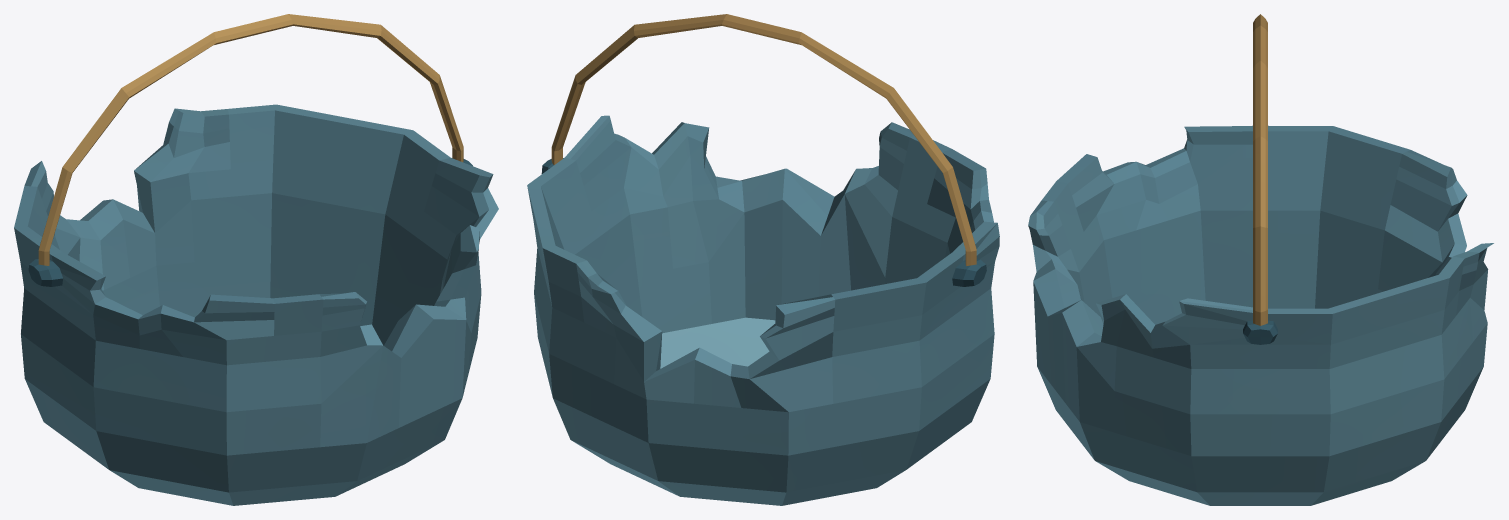
Rendered from cooking_pot_shotdamaged.glb.
The picture shows the model from 3 angles, left to right: view 1: azimuth 30°, elevation 25°; view 2: azimuth 150°, elevation 25°; view 3: azimuth 270°, elevation 25°; orthographic projection. The views are drawn at different scales.
Visible parts, largest first — view 1: cooking_pot_shotdamaged, cooking_pot_shotdamaged_handle; view 2: cooking_pot_shotdamaged, cooking_pot_shotdamaged_handle; view 3: cooking_pot_shotdamaged, cooking_pot_shotdamaged_handle.
Part boxes in pixels (box(x1,y1,x2,y2)): cooking_pot_shotdamaged: box(14, 104, 498, 505); cooking_pot_shotdamaged_handle: box(38, 14, 463, 265); cooking_pot_shotdamaged: box(527, 115, 999, 505); cooking_pot_shotdamaged_handle: box(551, 14, 976, 265); cooking_pot_shotdamaged: box(1028, 125, 1493, 505); cooking_pot_shotdamaged_handle: box(1253, 14, 1267, 325).
Size of the model in its own units: 0.379 by 0.3436 by 0.3656.
1 material, 1 textured.
